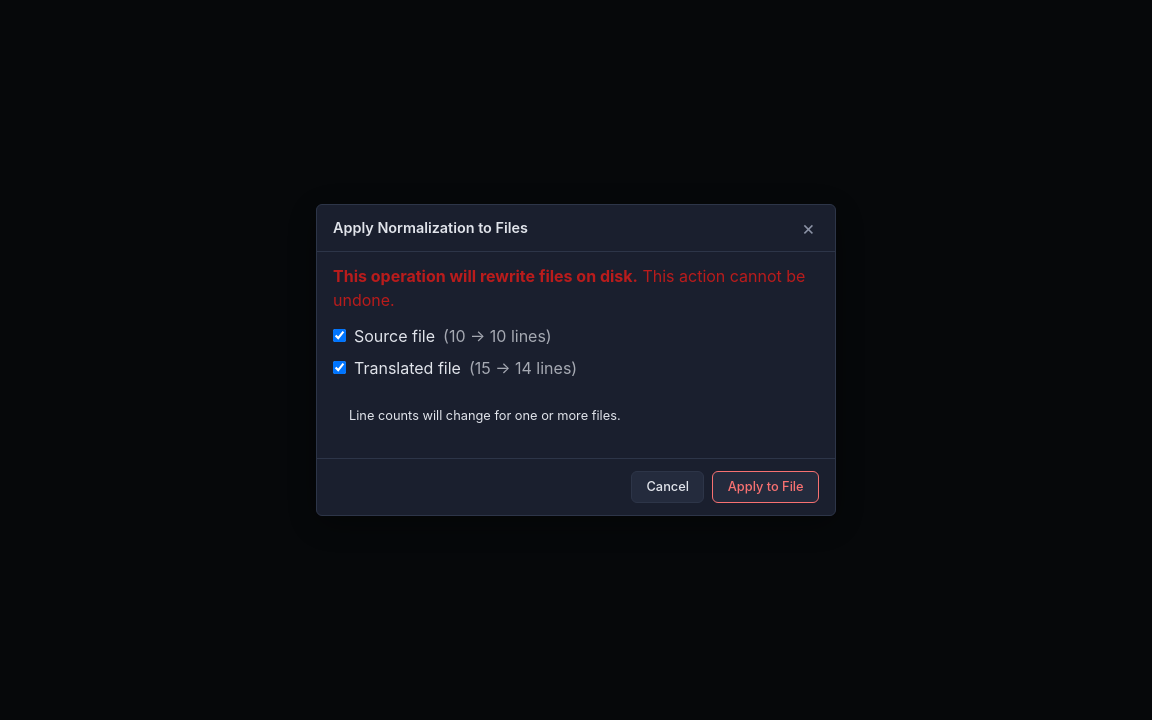
Scenario: ApplyConfirmationModal › shows error and toast on API failure
Step 1. Click the button "Apply to File" → (766, 487), box [712, 471, 819, 503]
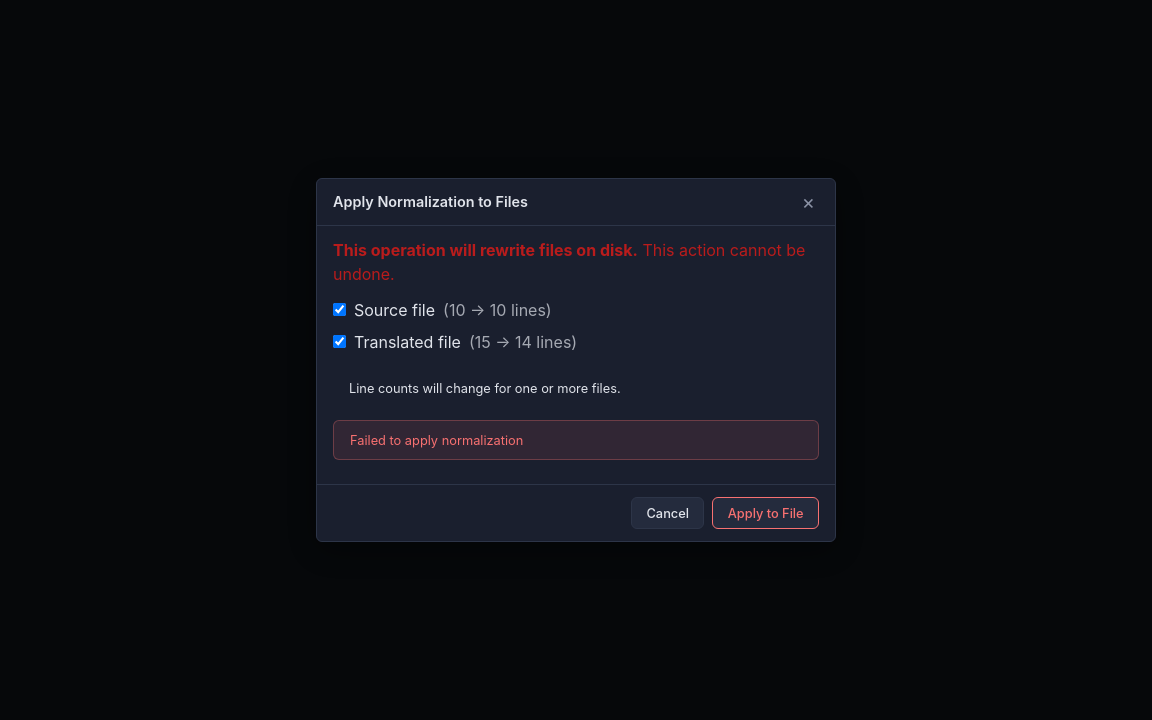
expect the text "Failed to apply normalization" is shown: met, box [333, 420, 819, 460]
